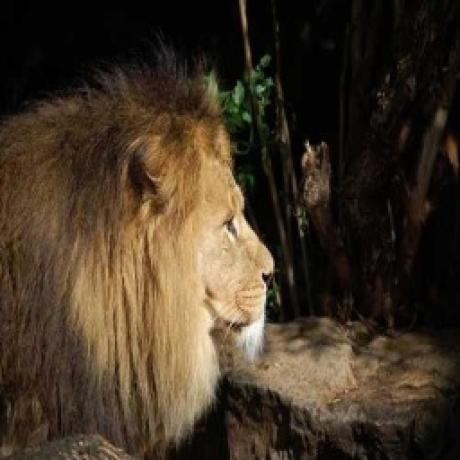Lion: (0, 37, 276, 460)
